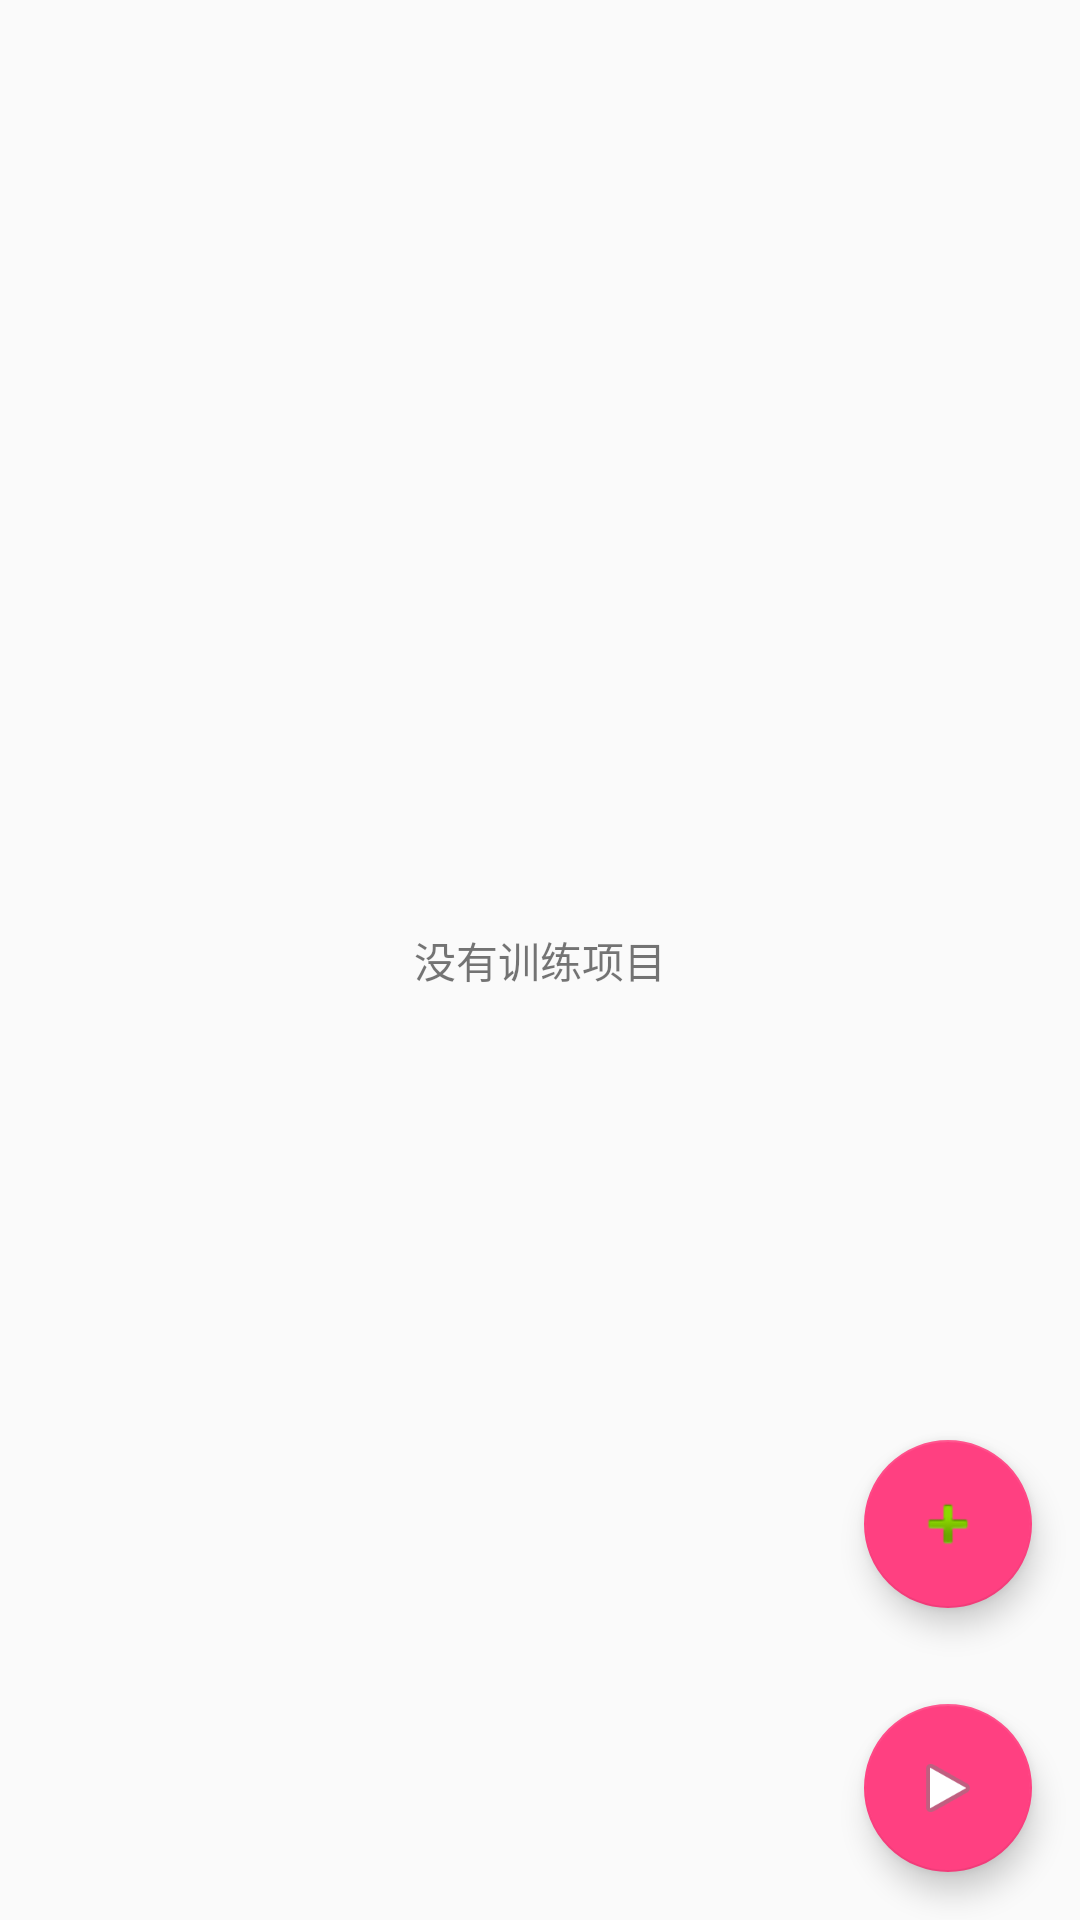

Screen size 1080x1920. Icon name, then its center in pixels as (x,y):
add: (948,1524)
play: (948,1788)
